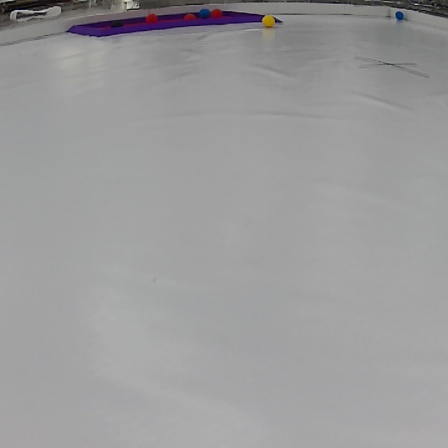blue: (69, 9, 280, 48), (392, 7, 407, 25), (111, 17, 125, 34), (198, 9, 208, 21)
red: (144, 11, 159, 30), (180, 14, 200, 26), (212, 9, 224, 20)
yellow: (262, 15, 275, 27)
